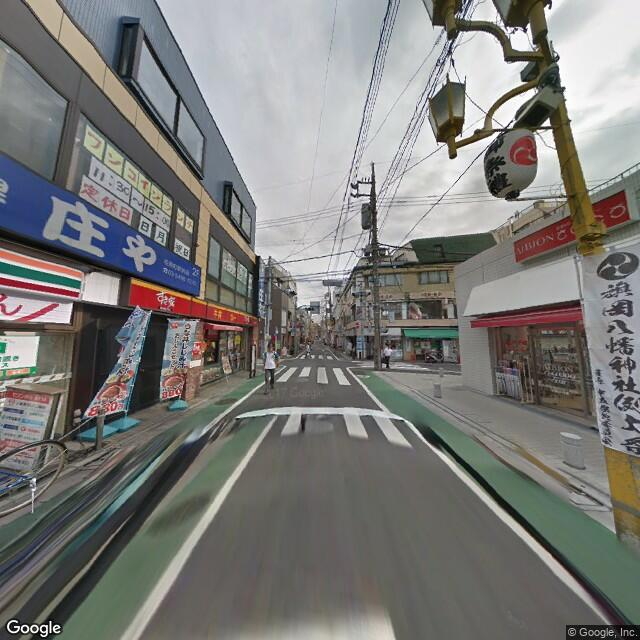7-eleven: (1, 241, 89, 304)
